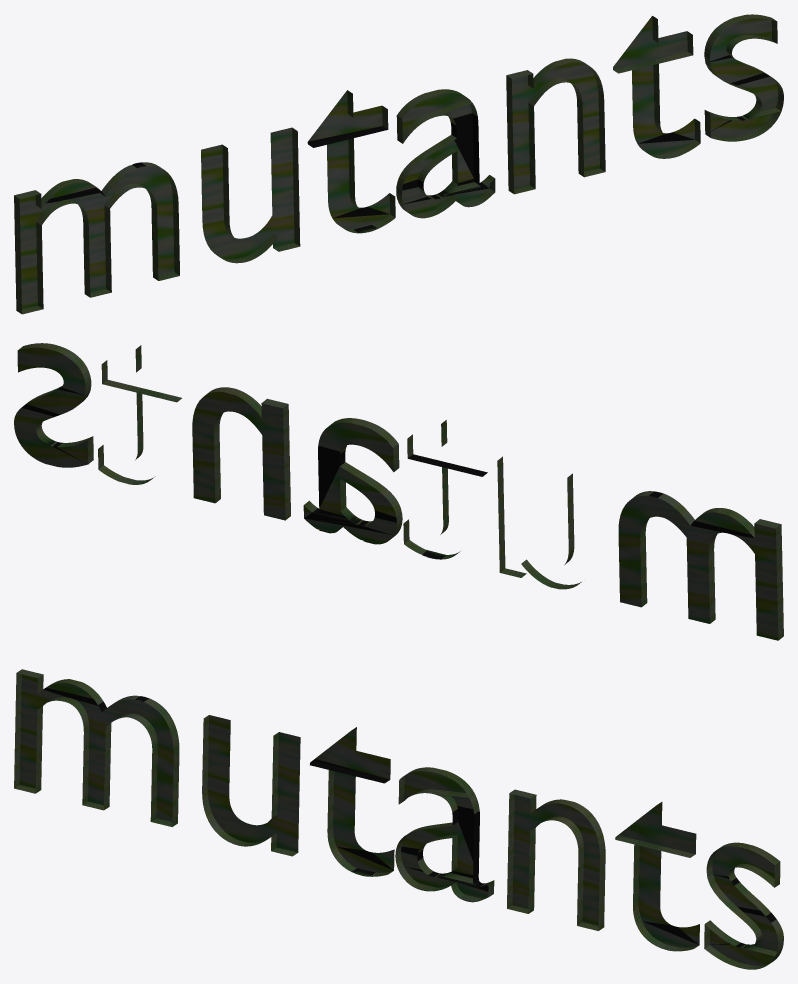
File: mutants_TEXTURE02.glb
3 renders of one model, top to bottom at view 1: azimuth 30°, elevation 25°; view 2: azimuth 150°, elevation 25°; view 3: azimuth 330°, elevation 25°, orthographic.
Parts seen in each view (by area): view 1: mutants; view 2: mutants; view 3: mutants.
Boxes of the visible parts, bbox=[...] form: mutants: bbox=[14, 14, 783, 314]; mutants: bbox=[14, 343, 783, 640]; mutants: bbox=[14, 669, 783, 969].
Size of the model in its own units: 0.8662 by 0.1518 by 0.0169.
Materials: 1 (1 with a texture image).
